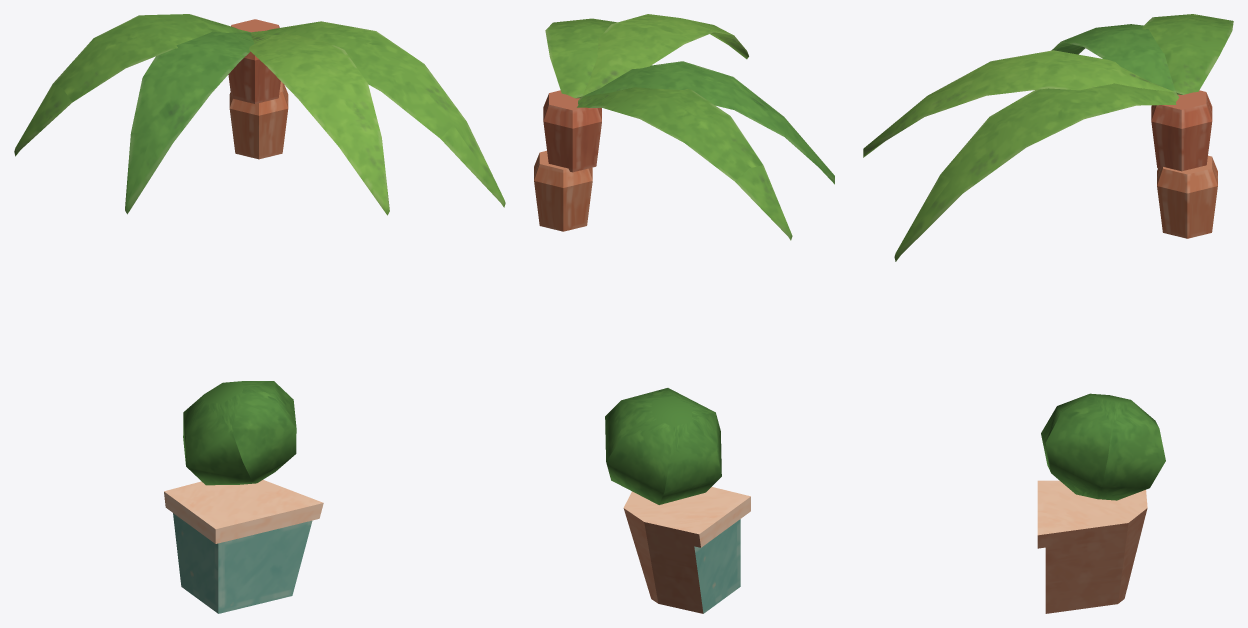
File: palm_bed_s05.fbx
3 renders of one model, left to right at view 1: azimuth 30°, elevation 25°; view 2: azimuth 150°, elevation 25°; view 3: azimuth 270°, elevation 25°, orthographic. The views are drawn at different scales.
Visible parts, largest first — view 1: palm_bed_s05; view 2: palm_bed_s05; view 3: palm_bed_s05.
Boxes of the visible parts, <box> form: palm_bed_s05: <box>14,14,505,613</box>; palm_bed_s05: <box>534,14,834,613</box>; palm_bed_s05: <box>863,14,1233,613</box>.
Size of the model in its own units: 7.24 by 10.85 by 6.53.
